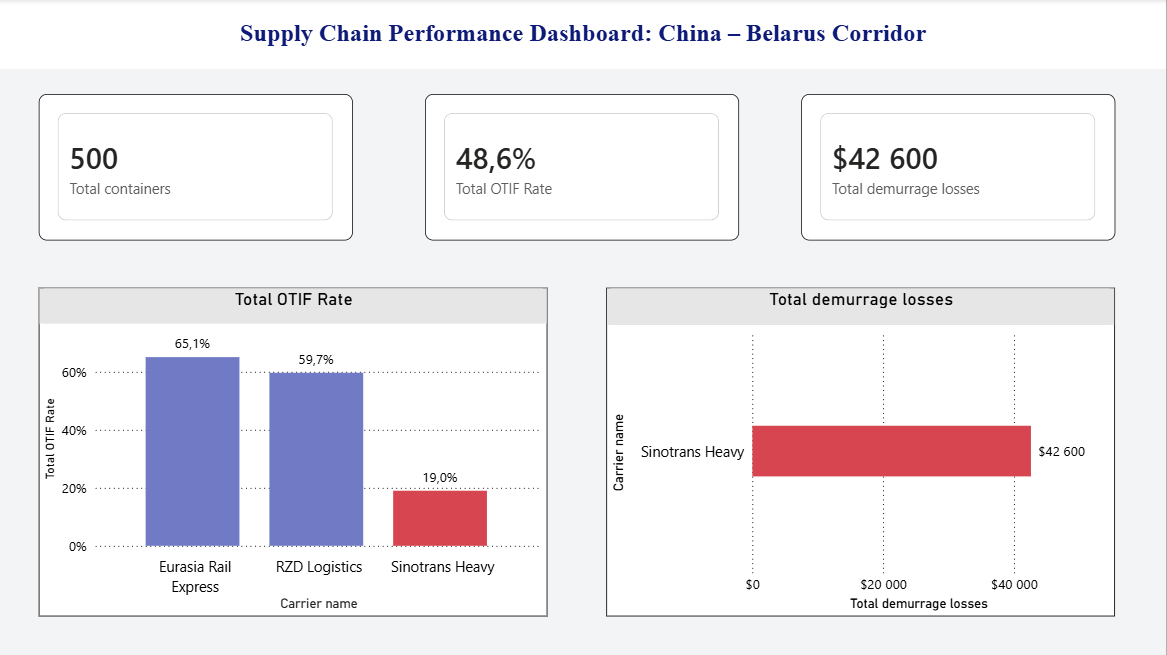

Layout of this report page (visuals, bound fields, positions):
{"tool":"powerbi","page":{"name":"Страница 1","canvas":[1280,720],"ordinal":0},"visuals":[{"type":"textbox","box":[0,0,1280.3,76.8],"z":0},{"type":"cardVisual","fields":{"Data":["shipments.Total_Containers"]},"box":[42.5,104.3,344.4,160.5],"z":1000},{"type":"cardVisual","fields":{"Data":["shipments.Total_OTIF_Rate"]},"box":[466.6,104.3,344.4,160.5],"z":2000},{"type":"cardVisual","fields":{"Data":["claims.Total_Demurrage_Losses"]},"box":[879.6,104.3,344.4,160.5],"z":3000},{"type":"clusteredBarChart","title":"Total demurrage losses ","fields":{"Category":["carriers.carrier_name"],"Y":["claims.Total_Demurrage_Losses"]},"box":[665.5,317,558.5,360.9],"z":4000},{"type":"clusteredColumnChart","title":"Total OTIF Rate ","fields":{"Category":["carriers.carrier_name"],"Y":["shipments.Total_OTIF_Rate"]},"box":[42.5,317,558.5,360.9],"z":5000}]}

Visuals, with their boxes in screenshot pixels (x1, y1, x2, y2), scaled from the page's 1280x720 canvas onto the 1167x655 screenshot:
textbox: [0, 0, 1166, 70]
cardVisual - shipments.Total_Containers: [39, 95, 353, 241]
cardVisual - shipments.Total_OTIF_Rate: [425, 95, 739, 241]
cardVisual - claims.Total_Demurrage_Losses: [802, 95, 1116, 241]
"Total demurrage losses " clusteredBarChart: [607, 288, 1116, 617]
"Total OTIF Rate " clusteredColumnChart: [39, 288, 548, 617]
